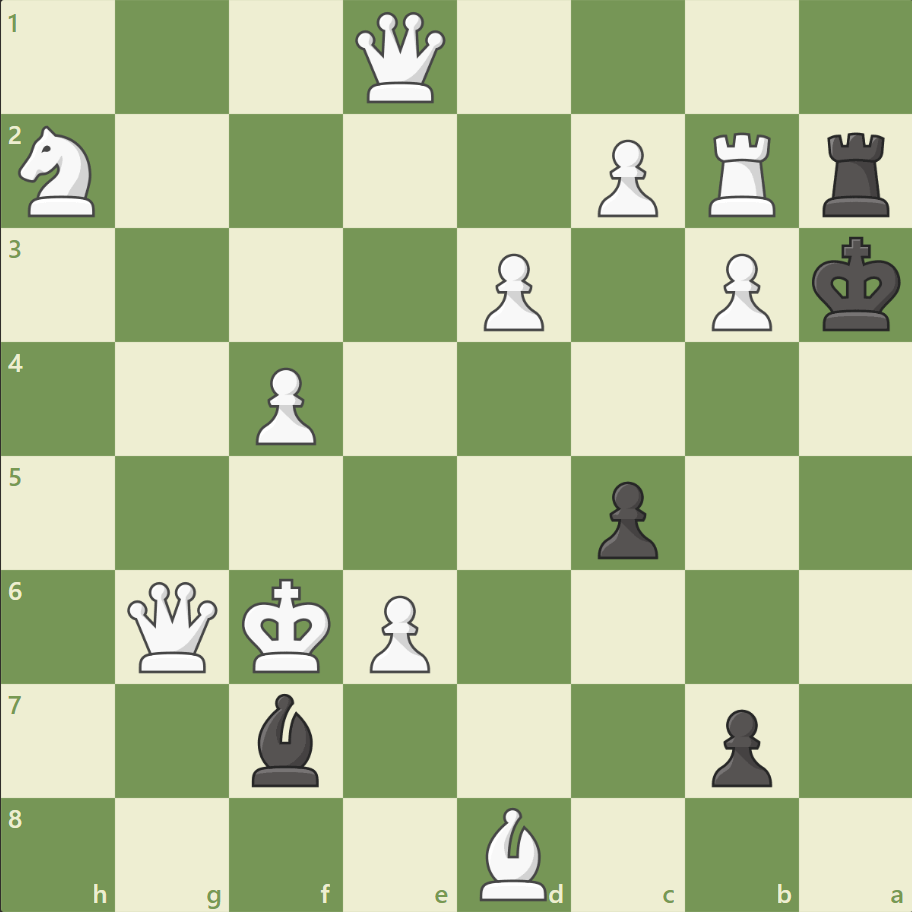B: (471, 801, 555, 904)
K: (238, 571, 338, 679)
N: (11, 121, 108, 223)
P: (247, 359, 322, 450), (701, 246, 776, 337), (474, 246, 549, 337), (361, 586, 435, 677), (588, 132, 662, 223)
Q: (124, 576, 223, 676), (351, 9, 450, 108)
R: (700, 125, 783, 222)
b: (244, 687, 328, 790)
k: (806, 231, 906, 339)
p: (701, 700, 776, 791), (588, 473, 662, 564)
r: (814, 125, 897, 222)
